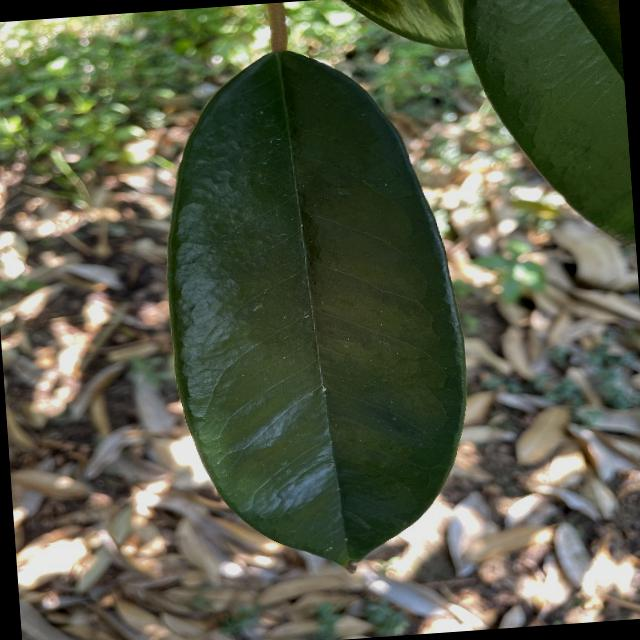No Disease: (147, 29, 487, 595)
